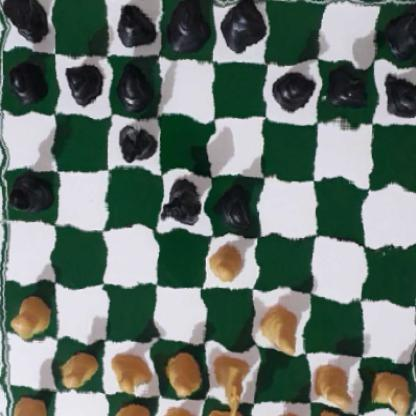black-bishop: (111, 0, 160, 46), (4, 171, 54, 214)
black-king: (218, 0, 263, 56)
black-knight: (159, 182, 208, 229), (118, 116, 155, 164)
black-pawn: (217, 178, 259, 232), (323, 64, 369, 113), (375, 68, 416, 120), (5, 57, 46, 103), (274, 60, 310, 111), (64, 59, 98, 109), (118, 60, 153, 107)
black-queen: (163, 0, 213, 54)
black-rook: (0, 0, 52, 45), (383, 0, 416, 58)
white-bishop: (113, 396, 150, 416), (261, 409, 308, 416)
white-king: (208, 401, 251, 416)
white-knight: (204, 346, 252, 415)
white-pawn: (257, 301, 301, 355), (312, 357, 356, 408), (366, 364, 411, 412), (108, 347, 149, 398), (8, 292, 51, 336), (163, 347, 200, 395), (58, 346, 98, 389), (205, 243, 249, 282)
white-queen: (160, 402, 201, 416)
white-rook: (7, 390, 50, 416)
